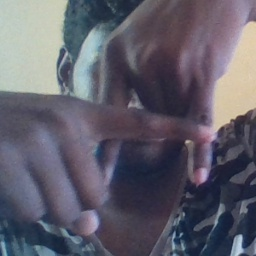H: (79, 57, 228, 199)
